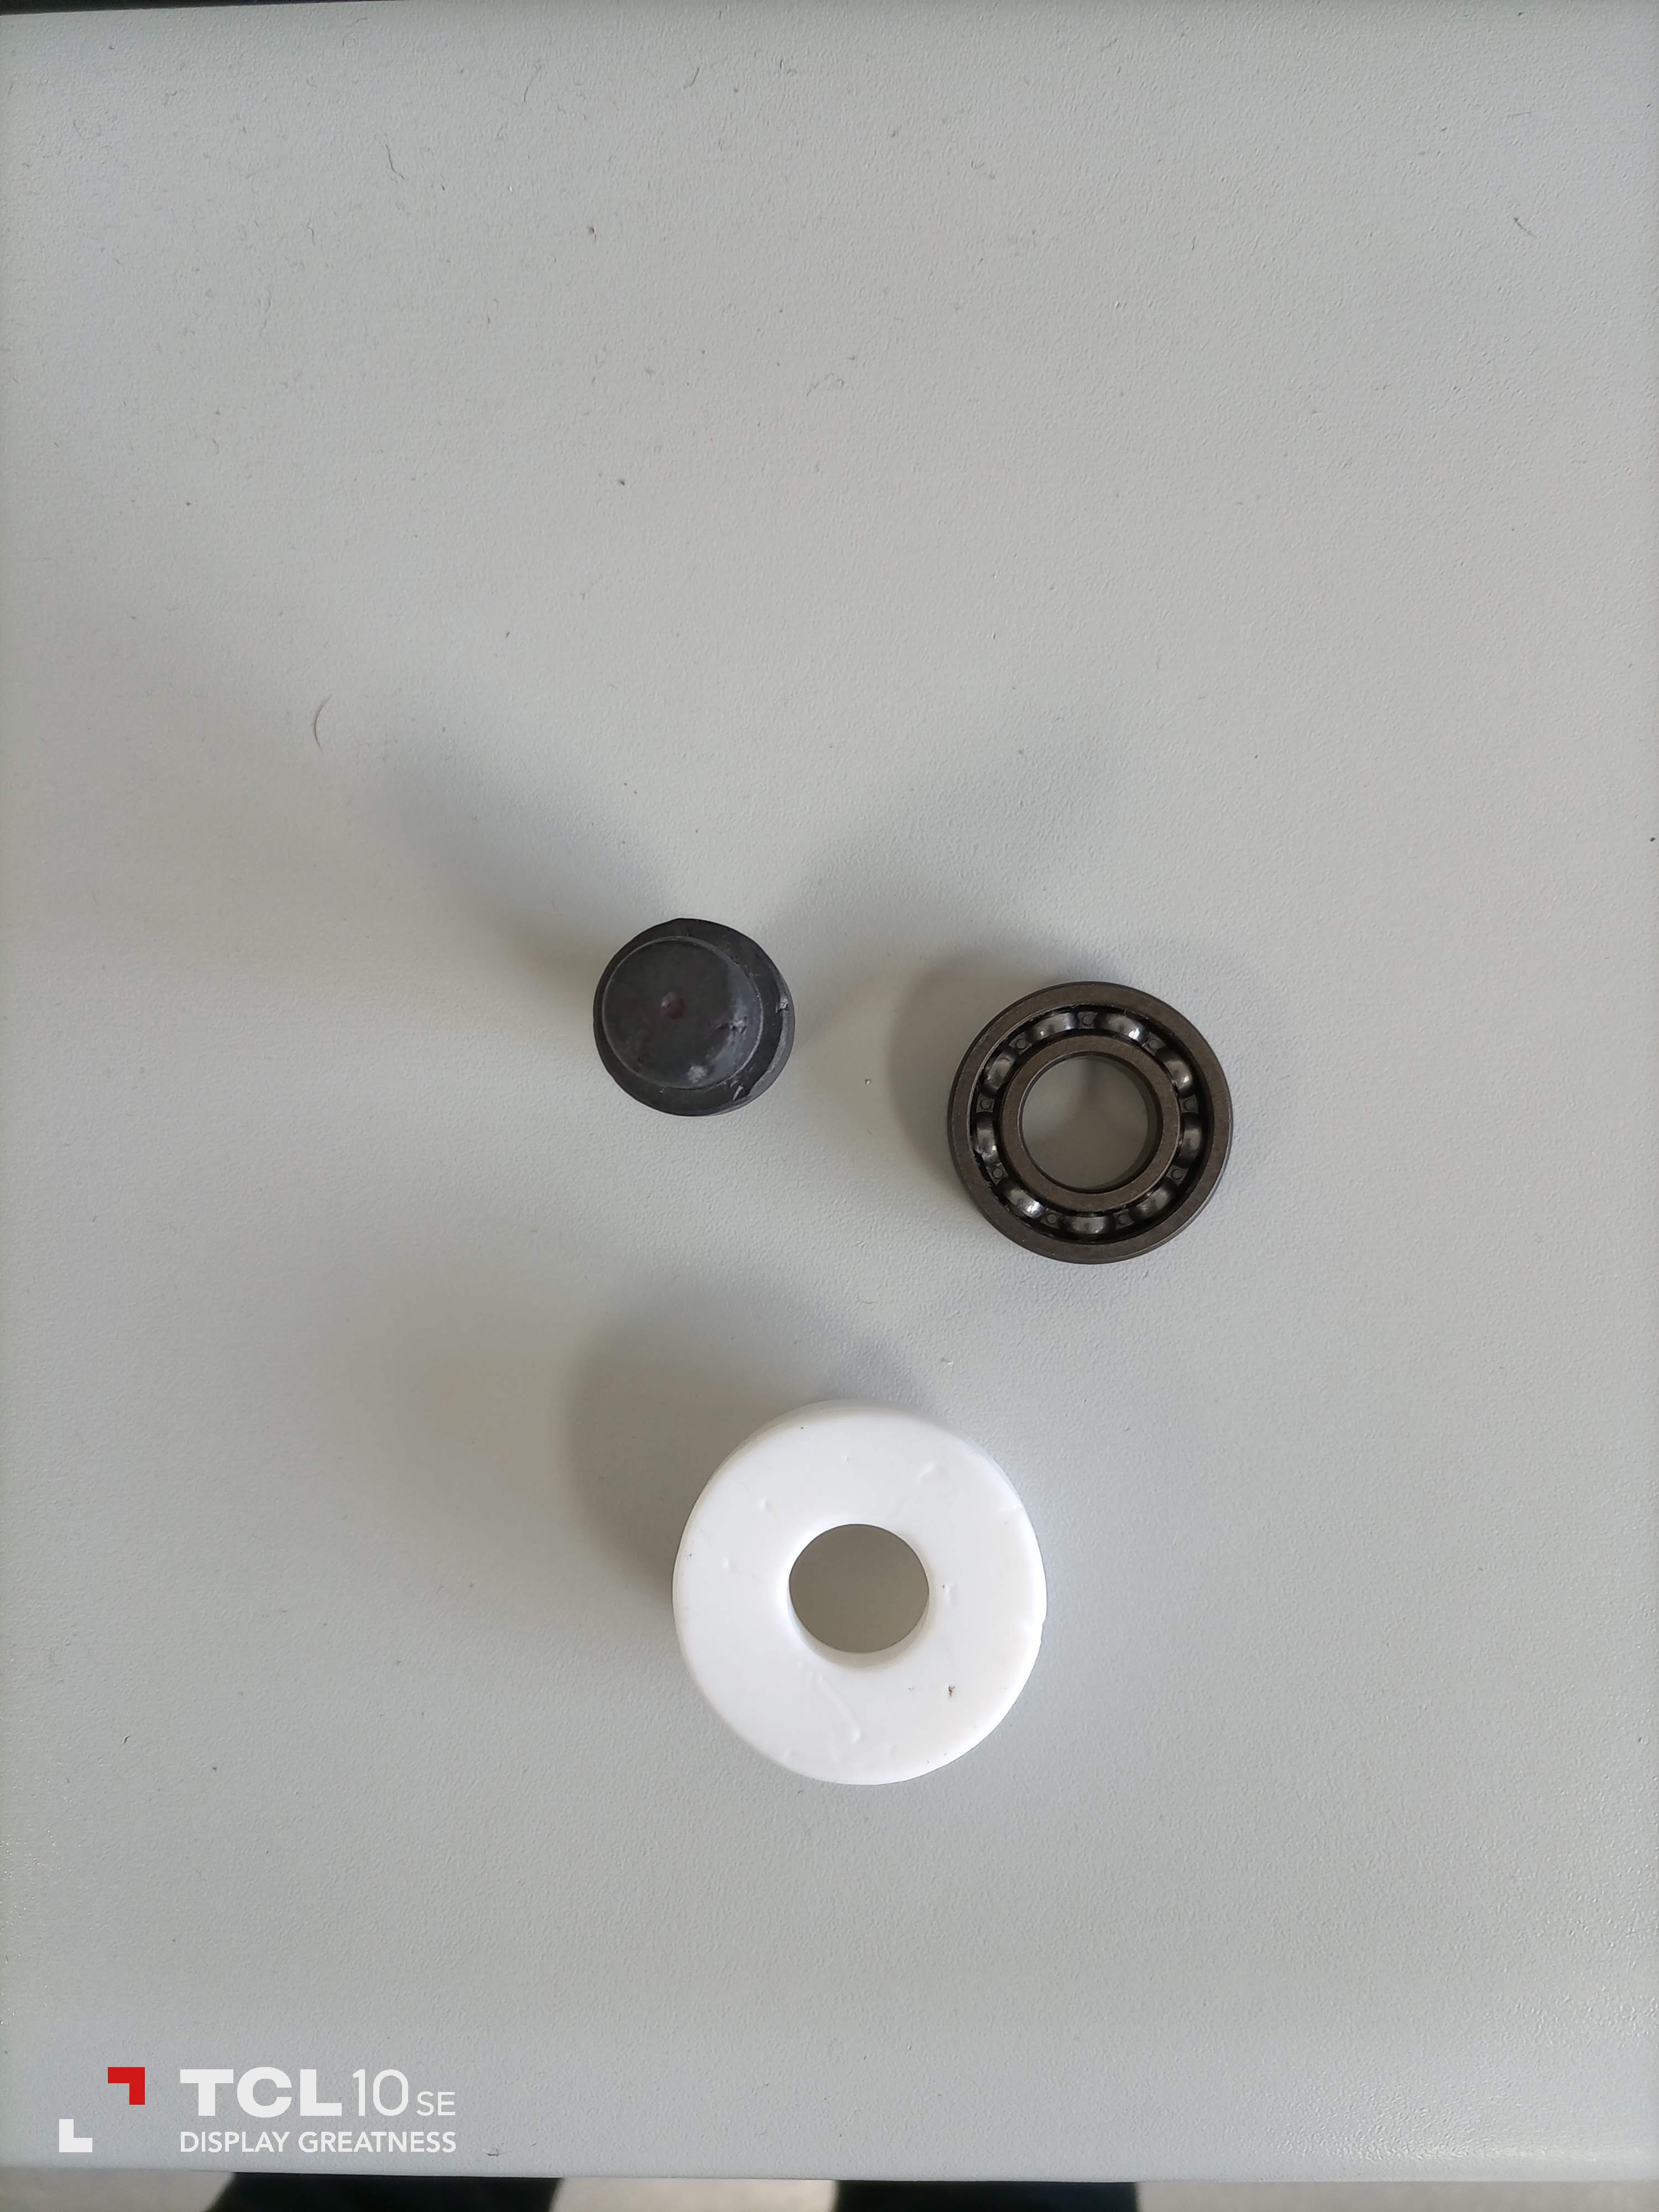Ardatza: (565, 911, 819, 1129)
Roda: (943, 974, 1243, 1264)
Tapa: (671, 1404, 1068, 1780)
